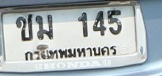txt08: (15, 13, 34, 42)
txt28: (34, 14, 54, 42)
